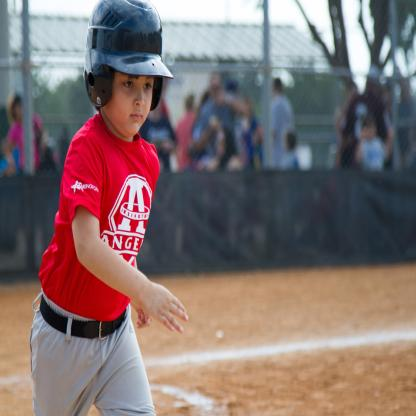Helmet: (83, 0, 172, 110)
